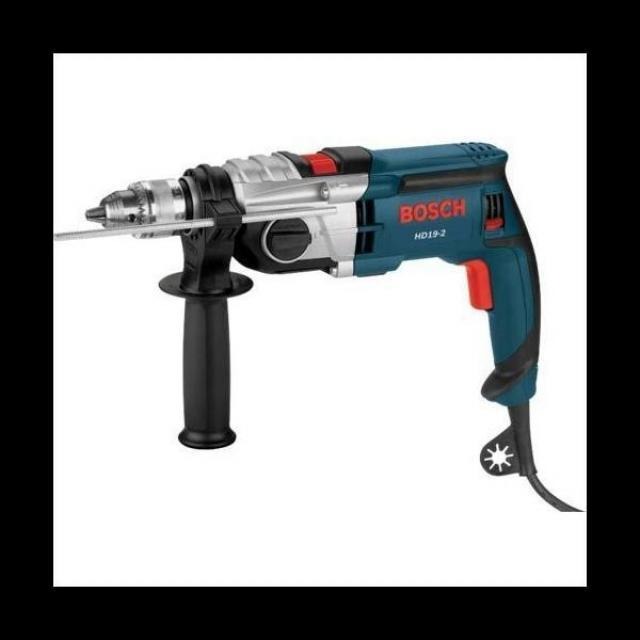drill: (53, 141, 543, 476)
